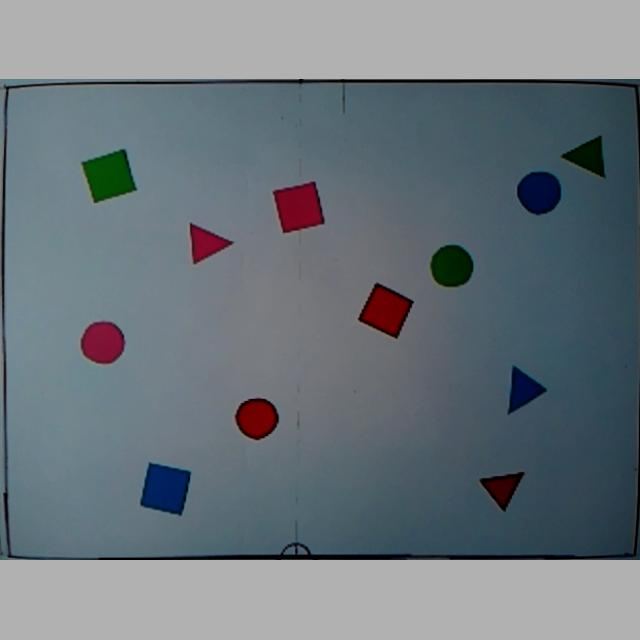blueCircle: (516, 171, 562, 217)
blueSquare: (140, 464, 192, 518)
blueTriangle: (504, 365, 548, 417)
greenCircle: (430, 246, 474, 290)
greenSquare: (80, 150, 136, 206)
greenTriangle: (560, 136, 608, 182)
pinkCircle: (78, 322, 125, 368)
pinkSquare: (272, 182, 326, 236)
pinkTriangle: (186, 222, 234, 266)
redCircle: (235, 398, 279, 442)
redSquare: (355, 282, 415, 342)
redTriangle: (478, 468, 526, 514)
